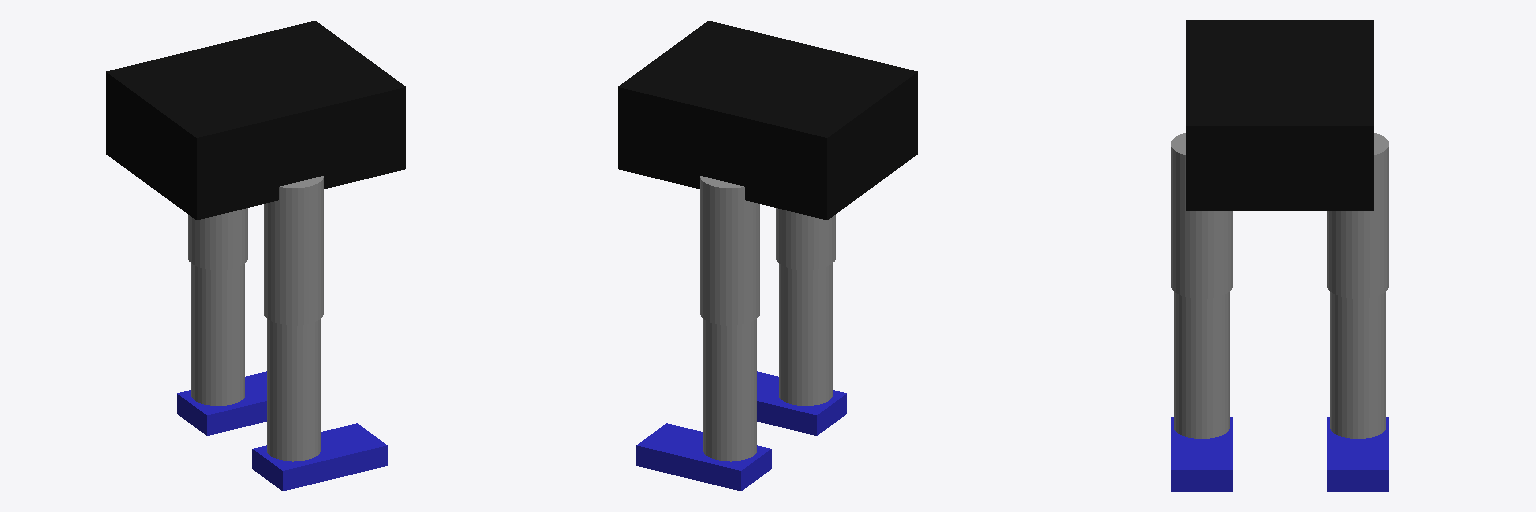
The robot description file, URDF, robot "robobuilder_huno":
<?xml version="1.0"?>
<robot name="robobuilder_huno">

  <!-- ================= MATERIALS ================= -->
  <material name="black">
    <color rgba="0.1 0.1 0.1 1.0"/>
  </material>

  <material name="gray">
    <color rgba="0.6 0.6 0.6 1.0"/>
  </material>

  <material name="blue">
    <color rgba="0.2 0.2 0.8 1.0"/>
  </material>

  <!-- ================= BASE ================= -->
  <link name="base_link">
    <visual>
      <geometry>
        <box size="0.16 0.12 0.06"/>
      </geometry>
      <material name="black"/>
    </visual>
    <collision>
      <geometry>
        <box size="0.16 0.12 0.06"/>
      </geometry>
    </collision>
    <inertial>
      <mass value="2.0"/>
      <origin xyz="0 0 0"/>
      <inertia ixx="0.01" iyy="0.01" izz="0.01"
               ixy="0" ixz="0" iyz="0"/>
    </inertial>
  </link>

  <!-- ================================================= -->
  <!-- ================= LEFT LEG ====================== -->
  <!-- ================================================= -->

  <!-- Hip Yaw -->
  <link name="l_hip_yaw_link"/>
  <joint name="l_hip_yaw_joint" type="revolute">
    <parent link="base_link"/>
    <child link="l_hip_yaw_link"/>
    <origin xyz="0 0.05 0"/>
    <axis xyz="0 0 1"/>
    <limit lower="-3.14" upper="3.14" effort="5" velocity="5"/>
  </joint>

  <!-- Hip Roll -->
  <link name="l_hip_roll_link"/>
  <joint name="l_hip_roll_joint" type="revolute">
    <parent link="l_hip_yaw_link"/>
    <child link="l_hip_roll_link"/>
    <axis xyz="1 0 0"/>
    <limit lower="-1.57" upper="1.57" effort="5" velocity="5"/>
  </joint>

  <!-- Thigh -->
  <link name="l_thigh_link">
    <visual>
      <geometry>
        <cylinder radius="0.02" length="0.10"/>
      </geometry>
      <origin xyz="0 0 -0.05"/>
      <material name="gray"/>
    </visual>
    <collision>
      <geometry>
        <cylinder radius="0.02" length="0.10"/>
      </geometry>
      <origin xyz="0 0 -0.05"/>
    </collision>
    <inertial>
      <mass value="0.3"/>
      <origin xyz="0 0 -0.05"/>
      <inertia ixx="0.001" iyy="0.001" izz="0.001"
               ixy="0" ixz="0" iyz="0"/>
    </inertial>
  </link>

  <joint name="l_hip_pitch_joint" type="revolute">
    <parent link="l_hip_roll_link"/>
    <child link="l_thigh_link"/>
    <origin xyz="0 0 -0.02"/>
    <axis xyz="0 1 0"/>
    <limit lower="-1.57" upper="1.57" effort="5" velocity="5"/>
  </joint>

  <!-- Shin -->
  <link name="l_shin_link">
    <visual>
      <geometry>
        <cylinder radius="0.018" length="0.10"/>
      </geometry>
      <origin xyz="0 0 -0.05"/>
      <material name="gray"/>
    </visual>
    <collision>
      <geometry>
        <cylinder radius="0.018" length="0.10"/>
      </geometry>
      <origin xyz="0 0 -0.05"/>
    </collision>
    <inertial>
      <mass value="0.25"/>
      <origin xyz="0 0 -0.05"/>
      <inertia ixx="0.0008" iyy="0.0008" izz="0.0008"
               ixy="0" ixz="0" iyz="0"/>
    </inertial>
  </link>

  <joint name="l_knee_pitch_joint" type="revolute">
    <parent link="l_thigh_link"/>
    <child link="l_shin_link"/>
    <origin xyz="0 0 -0.10"/>
    <axis xyz="0 1 0"/>
    <limit lower="0" upper="2.4" effort="5" velocity="5"/>
  </joint>

  <!-- Foot -->
  <link name="l_foot_link">
    <visual>
      <geometry>
        <box size="0.08 0.04 0.015"/>
      </geometry>
      <origin xyz="0.02 0 -0.01"/>
      <material name="blue"/>
    </visual>
    <collision>
      <geometry>
        <box size="0.08 0.04 0.015"/>
      </geometry>
      <origin xyz="0.02 0 -0.01"/>
    </collision>
    <inertial>
      <mass value="0.15"/>
      <origin xyz="0.02 0 -0.01"/>
      <inertia ixx="0.0003" iyy="0.0003" izz="0.0003"
               ixy="0" ixz="0" iyz="0"/>
    </inertial>
  </link>

  <joint name="l_ankle_pitch_joint" type="revolute">
    <parent link="l_shin_link"/>
    <child link="l_foot_link"/>
    <origin xyz="0 0 -0.10"/>
    <axis xyz="0 1 0"/>
    <limit lower="-1.0" upper="1.0" effort="5" velocity="5"/>
  </joint>

  <!-- ================================================= -->
  <!-- ================= RIGHT LEG ===================== -->
  <!-- ================================================= -->

  <link name="r_hip_yaw_link"/>
  <joint name="r_hip_yaw_joint" type="revolute">
    <parent link="base_link"/>
    <child link="r_hip_yaw_link"/>
    <origin xyz="0 -0.05 0"/>
    <axis xyz="0 0 1"/>
    <limit lower="-3.14" upper="3.14" effort="5" velocity="5"/>
  </joint>

  <link name="r_hip_roll_link"/>
  <joint name="r_hip_roll_joint" type="revolute">
    <parent link="r_hip_yaw_link"/>
    <child link="r_hip_roll_link"/>
    <axis xyz="1 0 0"/>
    <limit lower="-1.57" upper="1.57" effort="5" velocity="5"/>
  </joint>

  <link name="r_thigh_link">
    <visual>
      <geometry>
        <cylinder radius="0.02" length="0.10"/>
      </geometry>
      <origin xyz="0 0 -0.05"/>
      <material name="gray"/>
    </visual>
    <collision>
      <geometry>
        <cylinder radius="0.02" length="0.10"/>
      </geometry>
      <origin xyz="0 0 -0.05"/>
    </collision>
    <inertial>
      <mass value="0.3"/>
      <origin xyz="0 0 -0.05"/>
      <inertia ixx="0.001" iyy="0.001" izz="0.001"
               ixy="0" ixz="0" iyz="0"/>
    </inertial>
  </link>

  <joint name="r_hip_pitch_joint" type="revolute">
    <parent link="r_hip_roll_link"/>
    <child link="r_thigh_link"/>
    <origin xyz="0 0 -0.02"/>
    <axis xyz="0 1 0"/>
    <limit lower="-1.57" upper="1.57" effort="5" velocity="5"/>
  </joint>

  <link name="r_shin_link">
    <visual>
      <geometry>
        <cylinder radius="0.018" length="0.10"/>
      </geometry>
      <origin xyz="0 0 -0.05"/>
      <material name="gray"/>
    </visual>
    <collision>
      <geometry>
        <cylinder radius="0.018" length="0.10"/>
      </geometry>
      <origin xyz="0 0 -0.05"/>
    </collision>
    <inertial>
      <mass value="0.25"/>
      <origin xyz="0 0 -0.05"/>
      <inertia ixx="0.0008" iyy="0.0008" izz="0.0008"
               ixy="0" ixz="0" iyz="0"/>
    </inertial>
  </link>

  <joint name="r_knee_pitch_joint" type="revolute">
    <parent link="r_thigh_link"/>
    <child link="r_shin_link"/>
    <origin xyz="0 0 -0.10"/>
    <axis xyz="0 1 0"/>
    <limit lower="0" upper="2.4" effort="5" velocity="5"/>
  </joint>

  <link name="r_foot_link">
    <visual>
      <geometry>
        <box size="0.08 0.04 0.015"/>
      </geometry>
      <origin xyz="0.02 0 -0.01"/>
      <material name="blue"/>
    </visual>
    <collision>
      <geometry>
        <box size="0.08 0.04 0.015"/>
      </geometry>
      <origin xyz="0.02 0 -0.01"/>
    </collision>
    <inertial>
      <mass value="0.15"/>
      <origin xyz="0.02 0 -0.01"/>
      <inertia ixx="0.0003" iyy="0.0003" izz="0.0003"
               ixy="0" ixz="0" iyz="0"/>
    </inertial>
  </link>

  <joint name="r_ankle_pitch_joint" type="revolute">
    <parent link="r_shin_link"/>
    <child link="r_foot_link"/>
    <origin xyz="0 0 -0.10"/>
    <axis xyz="0 1 0"/>
    <limit lower="-1.0" upper="1.0" effort="5" velocity="5"/>
  </joint>

</robot>

--- What the picture shows (computed from the rendered views, not written in the file) ---
The picture shows the robot from 3 angles, left to right: view 1: azimuth 30°, elevation 25°; view 2: azimuth 150°, elevation 25°; view 3: azimuth 270°, elevation 25°; orthographic projection.
Robot: robobuilder_huno — 11 links, 10 joints (10 revolute); root link base_link; default pose: every joint at zero.
Links seen in each view (by area): view 1: base_link, r_thigh_link, l_shin_link, r_shin_link, r_foot_link, l_thigh_link, l_foot_link; view 2: base_link, l_thigh_link, r_shin_link, l_shin_link, l_foot_link, r_thigh_link, r_foot_link; view 3: base_link, l_shin_link, r_shin_link, l_thigh_link, r_thigh_link, l_foot_link, r_foot_link.
Link boxes in pixels (x1,y1,x2,y2): base_link: [106, 21, 405, 219]; r_thigh_link: [264, 176, 323, 325]; l_shin_link: [191, 263, 244, 405]; r_shin_link: [267, 319, 320, 461]; r_foot_link: [252, 423, 387, 490]; l_thigh_link: [188, 208, 247, 269]; l_foot_link: [177, 371, 266, 435]; base_link: [618, 21, 917, 219]; l_thigh_link: [700, 176, 759, 325]; r_shin_link: [779, 263, 832, 405]; l_shin_link: [703, 319, 756, 461]; l_foot_link: [636, 423, 771, 490]; r_thigh_link: [776, 208, 835, 269]; r_foot_link: [757, 371, 846, 435]; base_link: [1186, 20, 1373, 210]; l_shin_link: [1330, 292, 1385, 438]; r_shin_link: [1174, 292, 1229, 438]; l_thigh_link: [1327, 133, 1388, 298]; r_thigh_link: [1171, 133, 1232, 298]; l_foot_link: [1327, 417, 1388, 491]; r_foot_link: [1171, 417, 1232, 491].
Size in the robot's own frame: 0.16 by 0.14 by 0.2675 metres.
Geometry: primitives only (box / cylinder / sphere), no mesh files.
